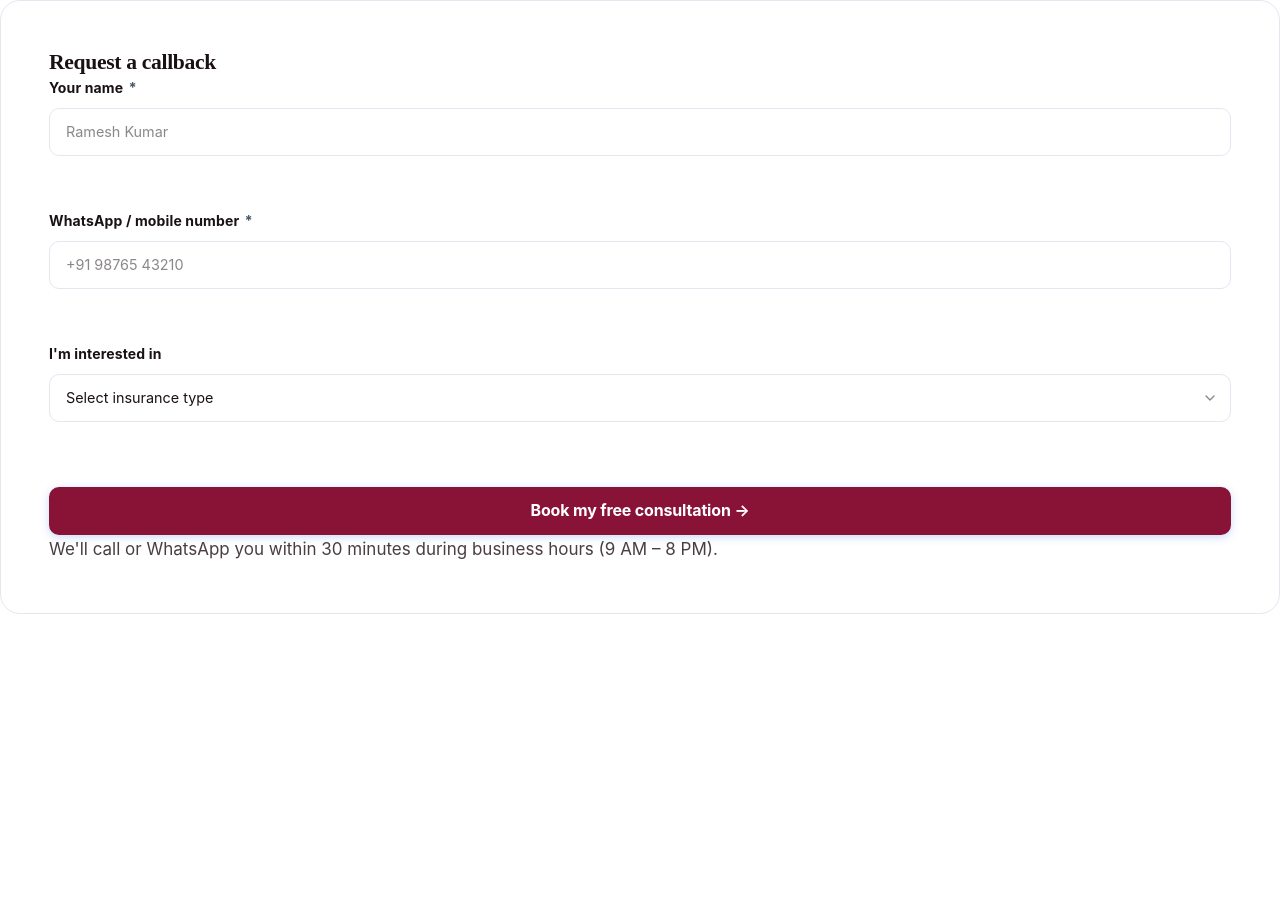
Test: LeadForm › shows a thank you screen on valid submit
Type "Arjun" into the field labelled "Your name *" at coordinates (640, 132), box [49, 108, 1231, 156]
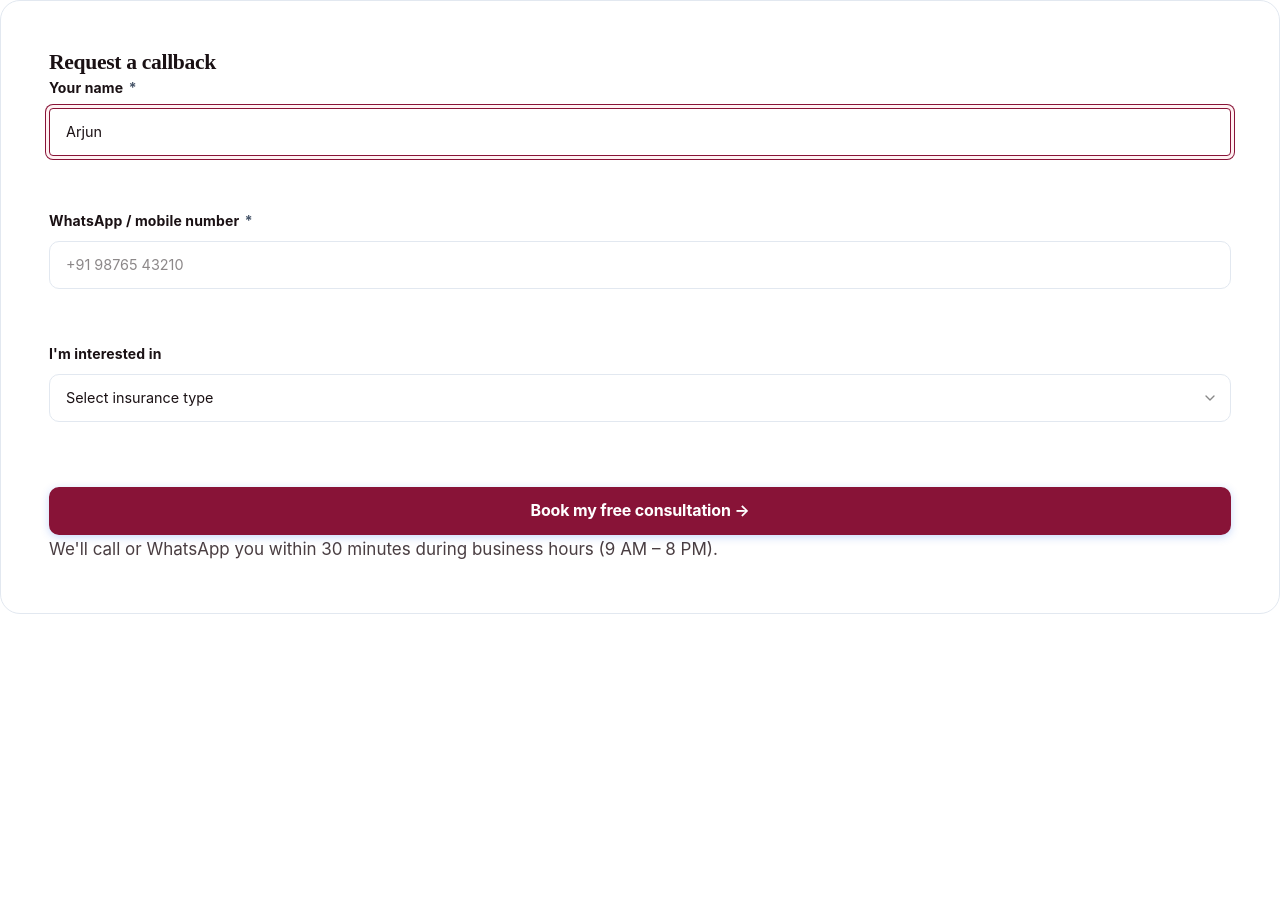
Type "9000000001" into the field labelled "WhatsApp / mobile number *" at coordinates (640, 265), box [49, 241, 1231, 289]
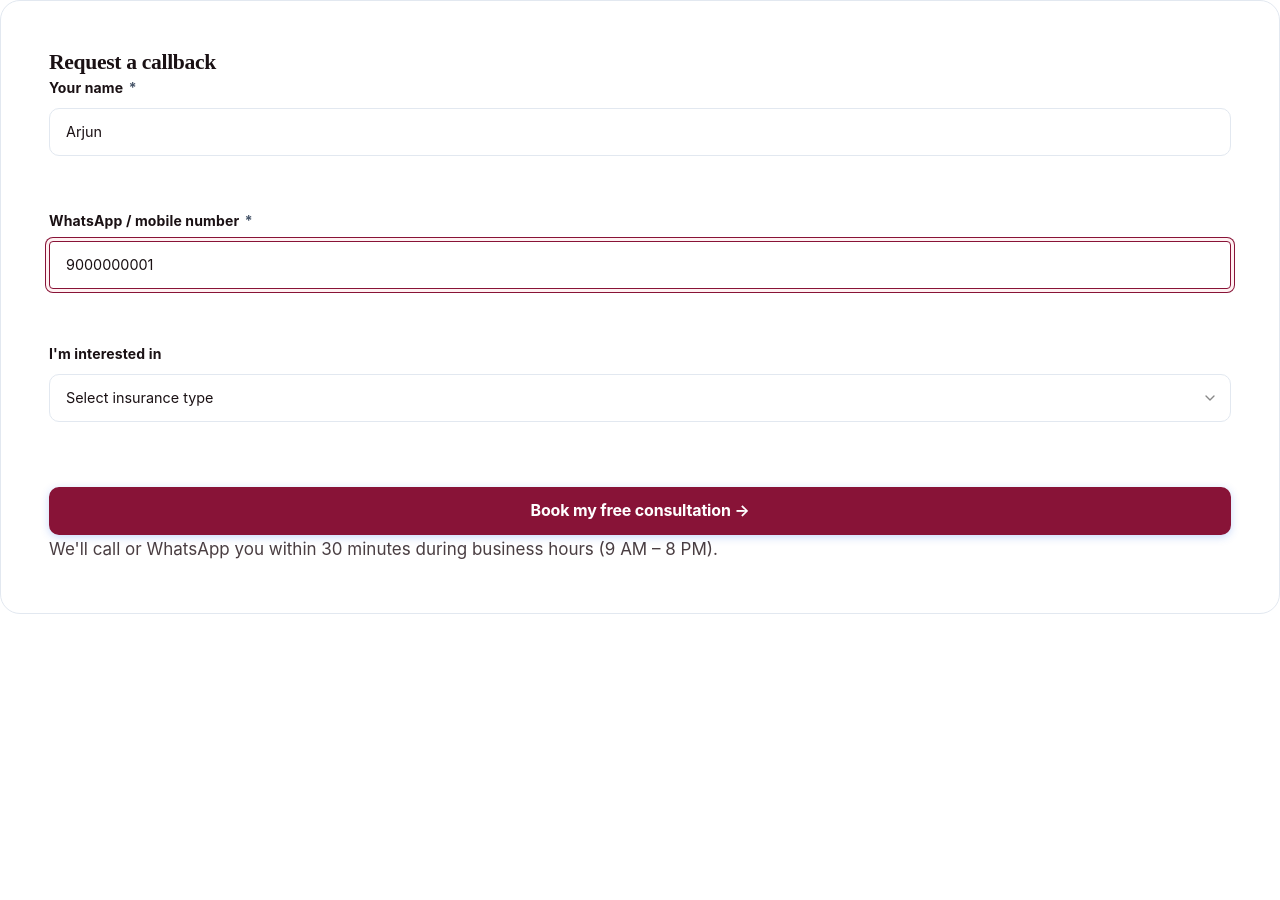
Submit the form named "consultation request form", box [49, 76, 1231, 565]
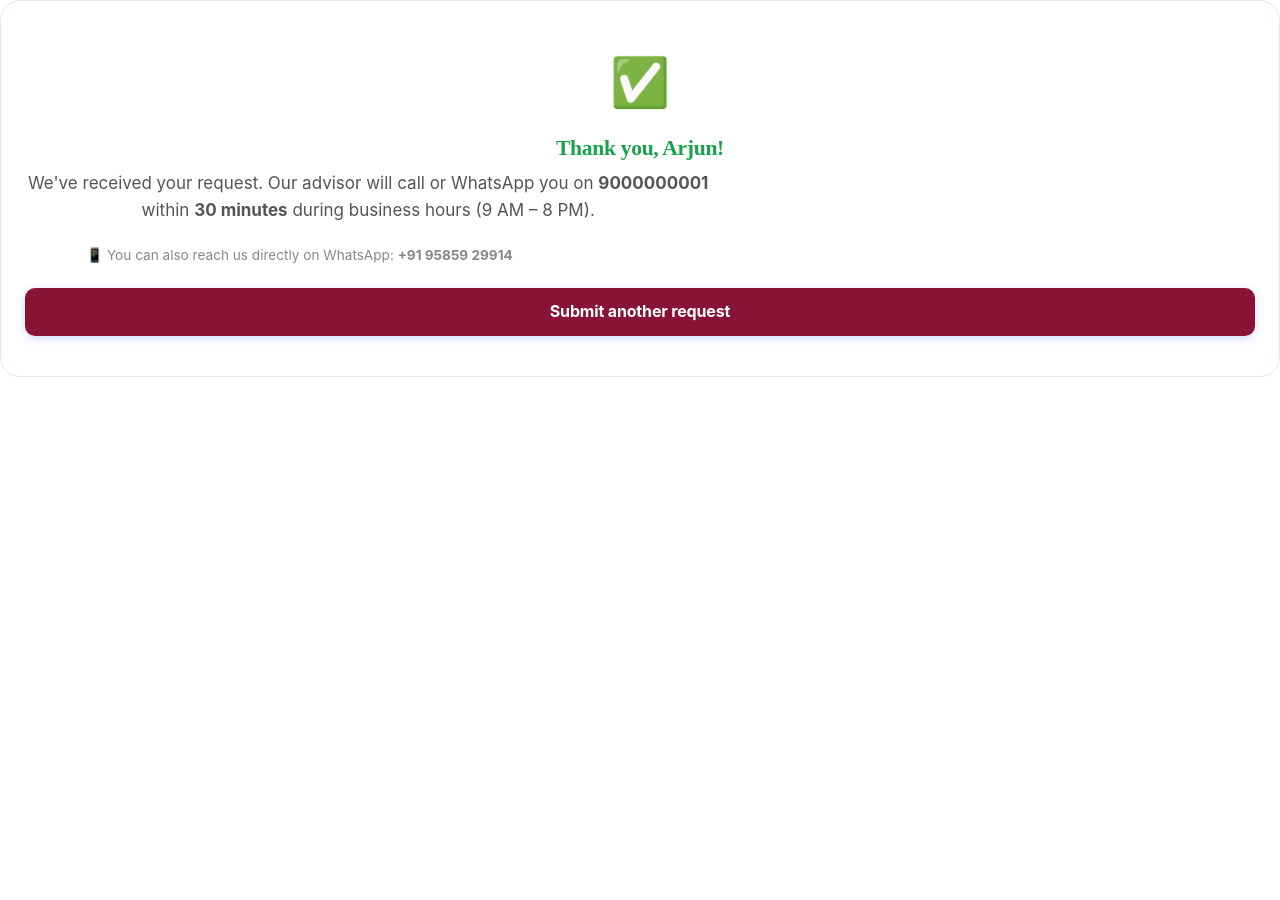
Check: the heading "Thank you, Arjun!" is shown, box [556, 136, 724, 160]
Check: the text "We've received your request" is shown, box [28, 173, 594, 193]
